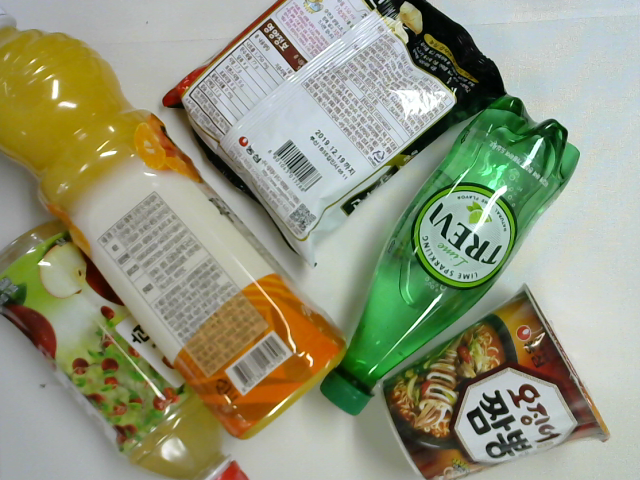Jeju_Tangerine_1.5L: (1, 1, 346, 440)
Morning_Apple_500ml: (1, 221, 250, 480)
Ojjam: (375, 284, 614, 480)
Potato: (161, 1, 510, 273)
Treviraim_500ml: (320, 89, 580, 420)
